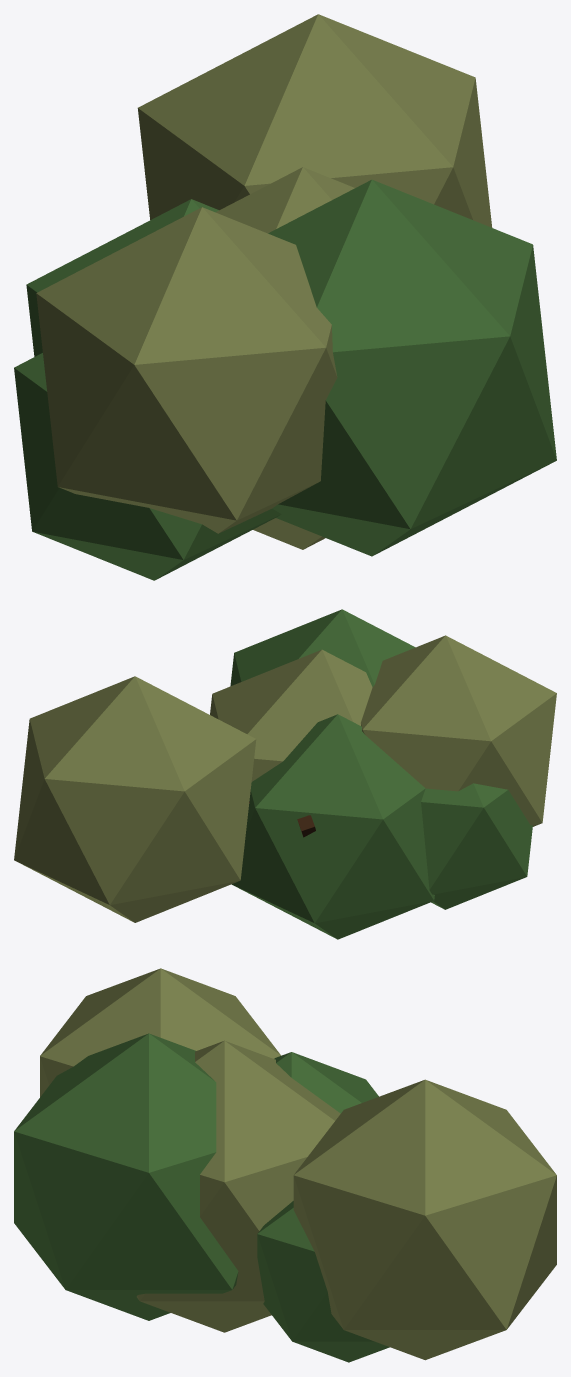
Rendered from SM_Shrub_Desert.obj.
3 renders of one model, top to bottom at view 1: azimuth 30°, elevation 25°; view 2: azimuth 150°, elevation 25°; view 3: azimuth 270°, elevation 25°, orthographic. The views are drawn at different scales.
Visible parts, largest first — view 1: SM_Shrub_Desert; view 2: SM_Shrub_Desert; view 3: SM_Shrub_Desert.
Part boxes in pixels (x1,y1,x2,y2): SM_Shrub_Desert: [14, 14, 556, 580]; SM_Shrub_Desert: [14, 609, 556, 939]; SM_Shrub_Desert: [14, 968, 556, 1362].
Size of the model in its own units: 0.9172 by 0.605 by 0.9542.
